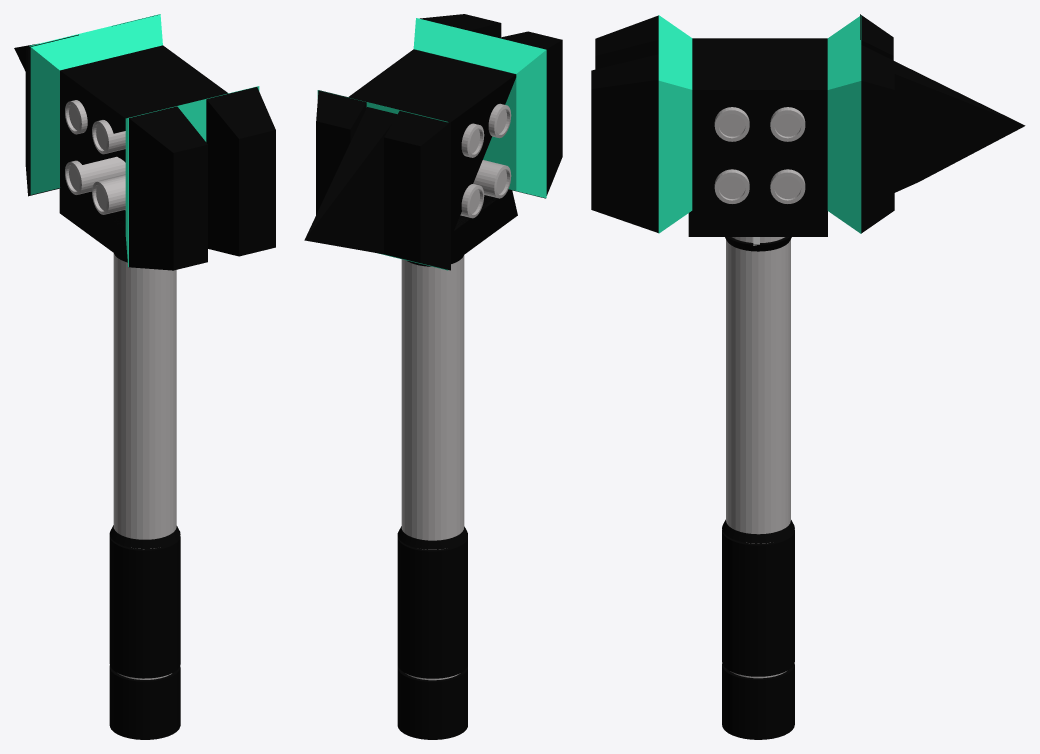
File: future hammer.fbx
The picture shows the model from 3 angles, left to right: view 1: azimuth 30°, elevation 25°; view 2: azimuth 150°, elevation 25°; view 3: azimuth 270°, elevation 25°; orthographic projection. The views are drawn at different scales.
Visible parts, largest first — view 1: Cylinder, Cube, Cube.011, Cube.013, Cylinder.002, Cube.010, Cylinder.001, Cylinder.009, Cube.009, Cylinder.010, Cube.012, Cylinder.006 (+2 smaller); view 2: Cylinder, Cube, Cube.012, Cube.009, Cylinder.002, Cube.015, Cylinder.001, Cube.014, Cube.011, Cylinder.010, Cube.013, Cylinder.003 (+3 smaller); view 3: Cube, Cylinder, Cube.013, Cylinder.002, Cube.015, Cube.010, Cube.009, Cube.014, Cylinder.001, Cube.011, Cylinder.007, Cylinder.006 (+4 smaller).
Part boxes in pixels (<box>): Cylinder: <box>113,209,176,679</box>; Cube: <box>59,45,227,262</box>; Cube.011: <box>129,106,207,270</box>; Cube.013: <box>206,87,275,256</box>; Cylinder.002: <box>109,535,180,678</box>; Cube.010: <box>29,14,162,194</box>; Cylinder.001: <box>109,665,180,739</box>; Cylinder.009: <box>65,156,125,194</box>; Cube.009: <box>125,86,259,266</box>; Cylinder.010: <box>92,175,125,214</box>; Cube.012: <box>25,34,78,196</box>; Cylinder.006: <box>92,120,125,154</box>; Cylinder: <box>401,255,464,680</box>; Cube: <box>348,49,517,263</box>; Cube.012: <box>384,109,450,270</box>; Cube.009: <box>413,18,546,198</box>; Cylinder.002: <box>397,536,467,678</box>; Cube.015: <box>304,107,397,254</box>; Cylinder.001: <box>397,665,467,739</box>; Cube.014: <box>316,90,366,214</box>; Cube.011: <box>499,31,562,198</box>; Cylinder.010: <box>473,160,511,198</box>; Cube.013: <box>420,14,501,37</box>; Cylinder.003: <box>397,526,467,549</box>; Cube: <box>688,38,827,236</box>; Cylinder: <box>726,237,790,678</box>; Cube.013: <box>591,54,658,232</box>; Cylinder.002: <box>722,529,794,676</box>; Cube.015: <box>861,45,1025,192</box>; Cube.010: <box>827,15,861,233</box>; Cube.009: <box>658,15,692,233</box>; Cube.014: <box>861,56,894,233</box>; Cylinder.001: <box>722,663,794,739</box>; Cube.011: <box>595,15,658,69</box>; Cylinder.007: <box>770,107,805,141</box>; Cylinder.006: <box>714,107,749,141</box>.
Bounding box in the file's own units: 14.53 × 68.64 × 39.93.
